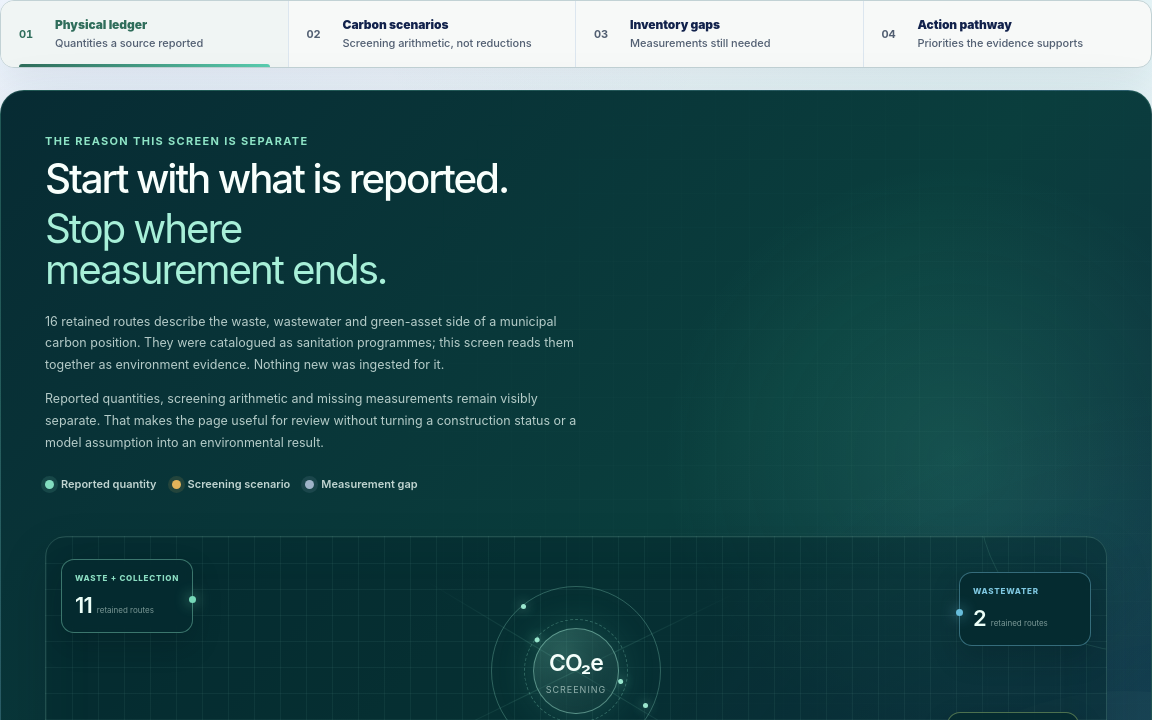
environment and carbon screen › marks the undeclared legacy waste unit as an assumption card
Click the tab "02 Carbon scenarios Screening arithmetic, not reductions": (432, 34) [288,1,576,67]
(page scrolled)
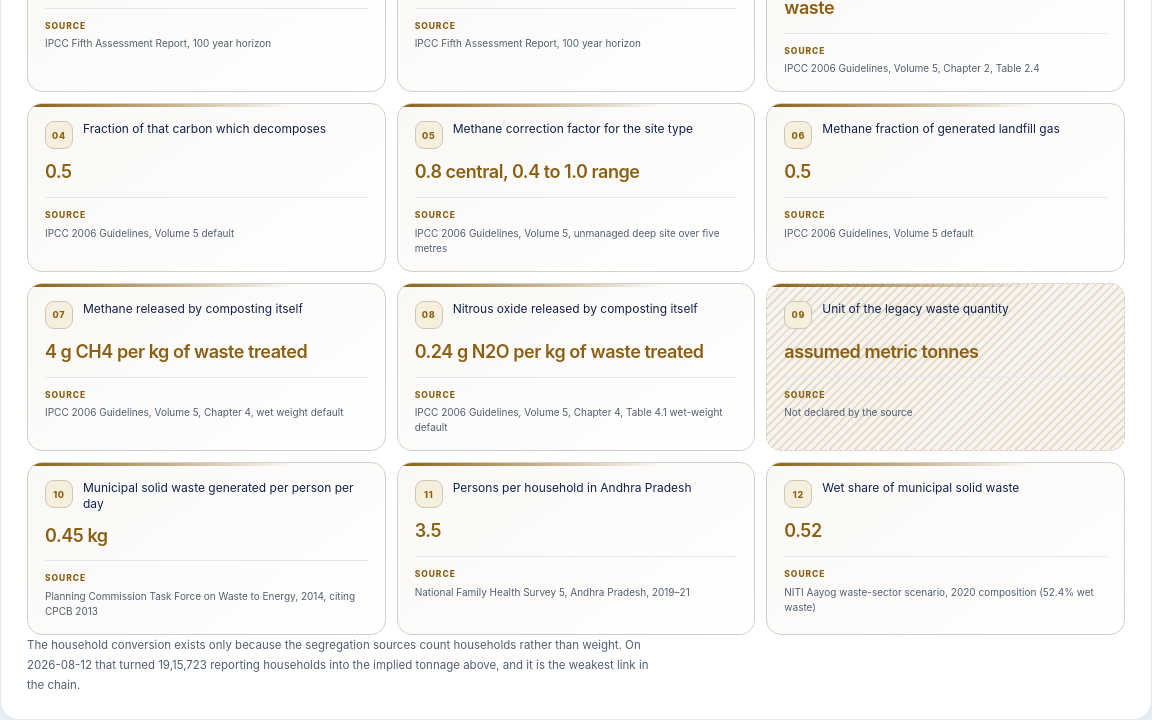
Check: the list item that starts with "Unit of the legacy waste quantity" shows "assumed metric tonnes", box [784,341,978,362]
